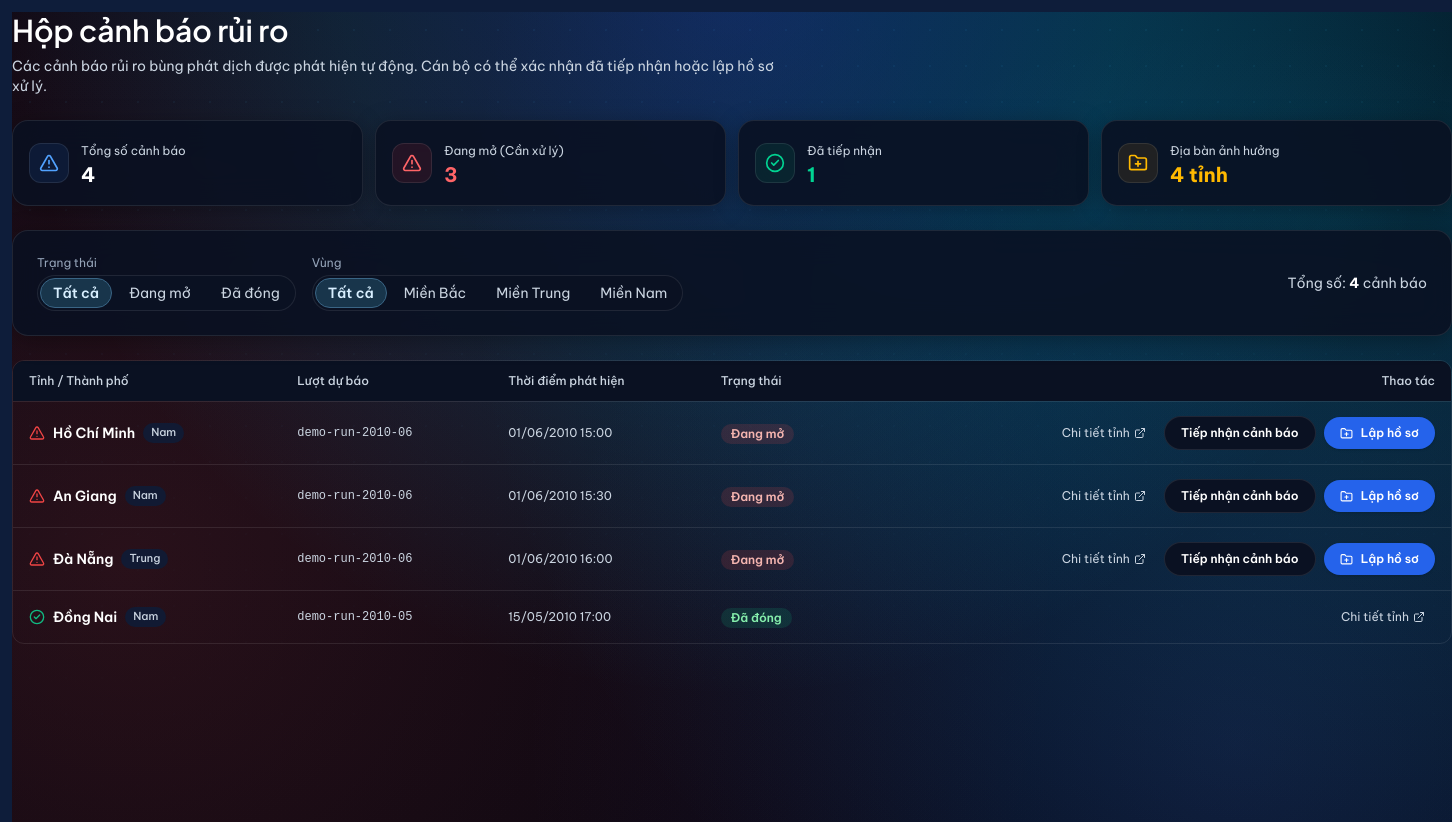
Test: AlertsPage (S6 Cảnh báo rủi ro) › lọc cảnh báo theo trạng thái đang mở và đã đóng
This screenshot has width=1452, height=822.
Expected: the link "Hồ Chí Minh" is shown, left=53, top=423, right=135, bottom=443
// Bấm lọc "Đang mở"
Click the radio button labelled "Đang mở" at (160, 293), box left=129, top=284, right=191, bottom=302
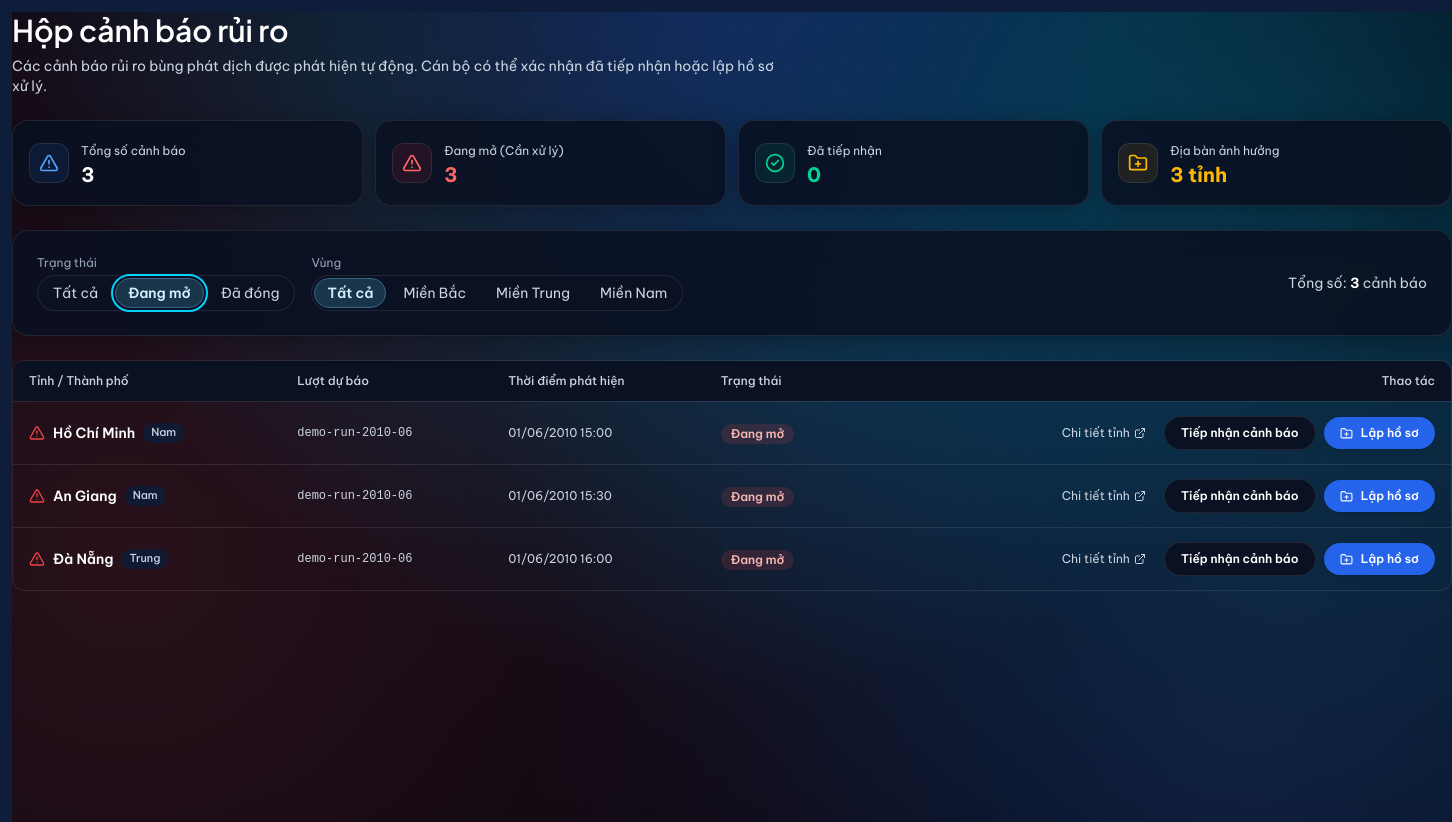
Expected: the link "Hồ Chí Minh" is shown, left=53, top=423, right=135, bottom=443
Now the link "Đồng Nai" is gone
// Bấm lọc "Đã đóng"
Click the radio button labelled "Đã đóng" at (250, 293), box left=221, top=284, right=280, bottom=302
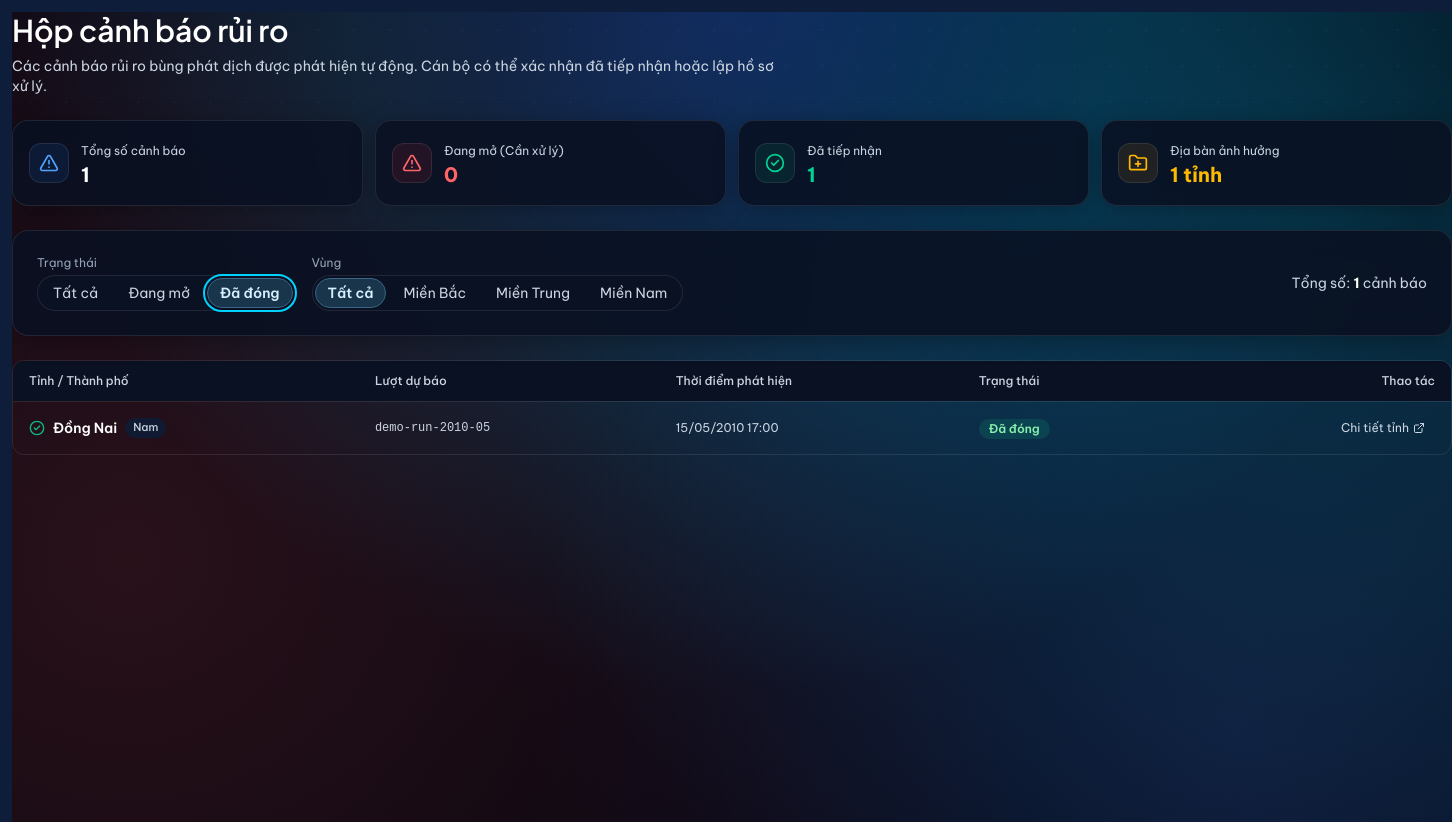
Now the link "Đồng Nai" is shown, box left=53, top=418, right=117, bottom=438
Now the link "Hồ Chí Minh" is gone
